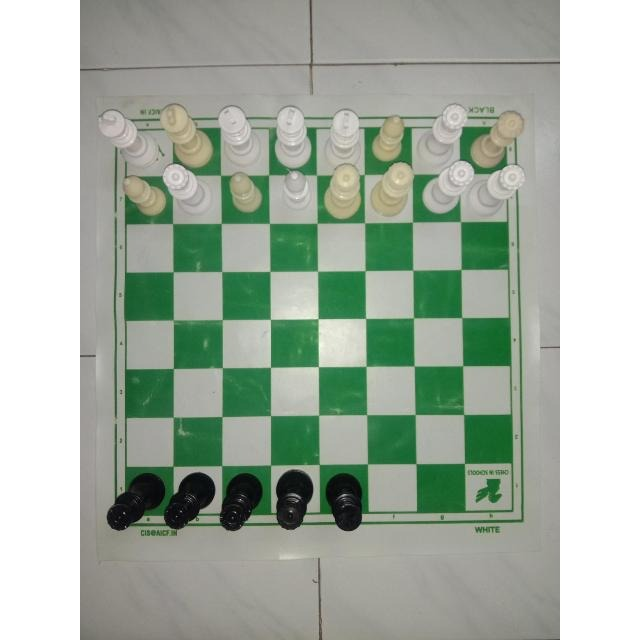black-king: (323, 470, 367, 534)
black-queen: (103, 471, 164, 533), (164, 470, 216, 532), (217, 469, 262, 531), (274, 468, 313, 530)
white-bishop: (118, 172, 168, 220), (370, 116, 410, 164), (224, 169, 266, 213), (277, 169, 313, 211)
white-king: (155, 101, 217, 169), (94, 108, 156, 166), (214, 100, 264, 168), (268, 104, 313, 168), (322, 107, 364, 169)
white-queen: (415, 103, 466, 167), (469, 108, 525, 164), (161, 161, 215, 217), (468, 161, 525, 213), (422, 160, 472, 216), (366, 163, 414, 217), (322, 164, 361, 220)
